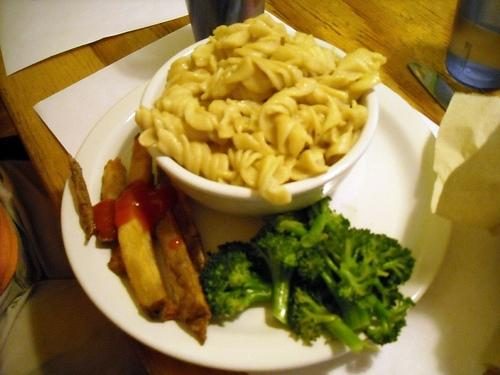broccoli: (295, 248, 372, 332), (291, 286, 380, 354), (198, 240, 272, 317), (250, 223, 304, 326), (351, 294, 415, 345), (360, 232, 416, 289), (300, 196, 351, 246), (323, 226, 374, 268), (337, 262, 378, 304)
